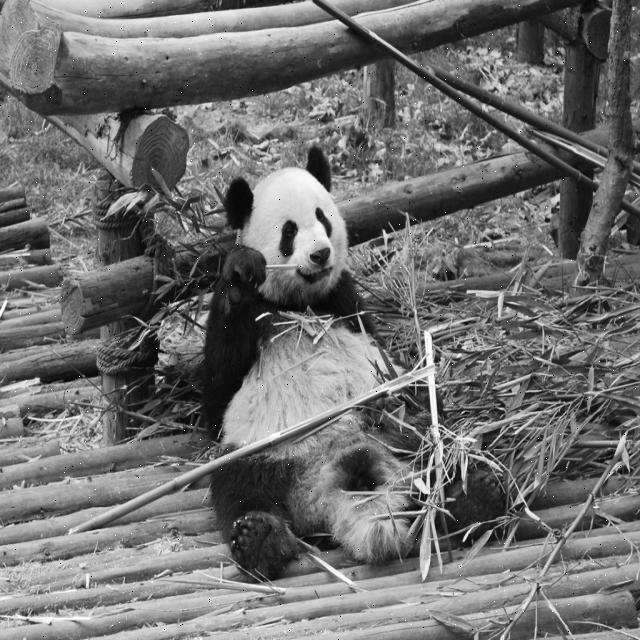panda: (201, 141, 507, 583)
